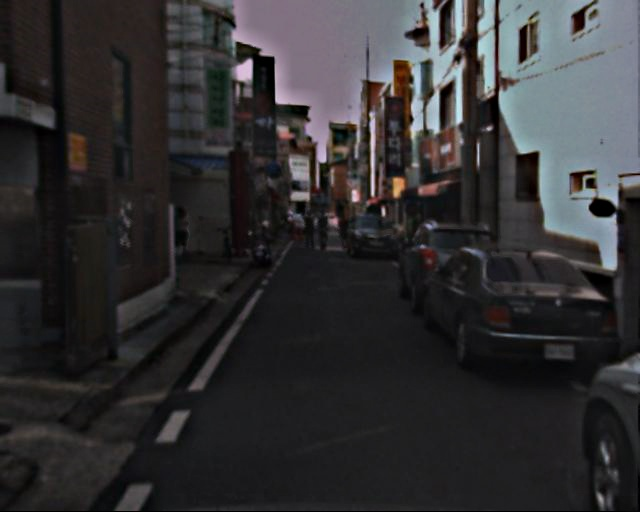person: (172, 204, 197, 264), (335, 211, 353, 256), (302, 211, 320, 254), (318, 212, 335, 253)
